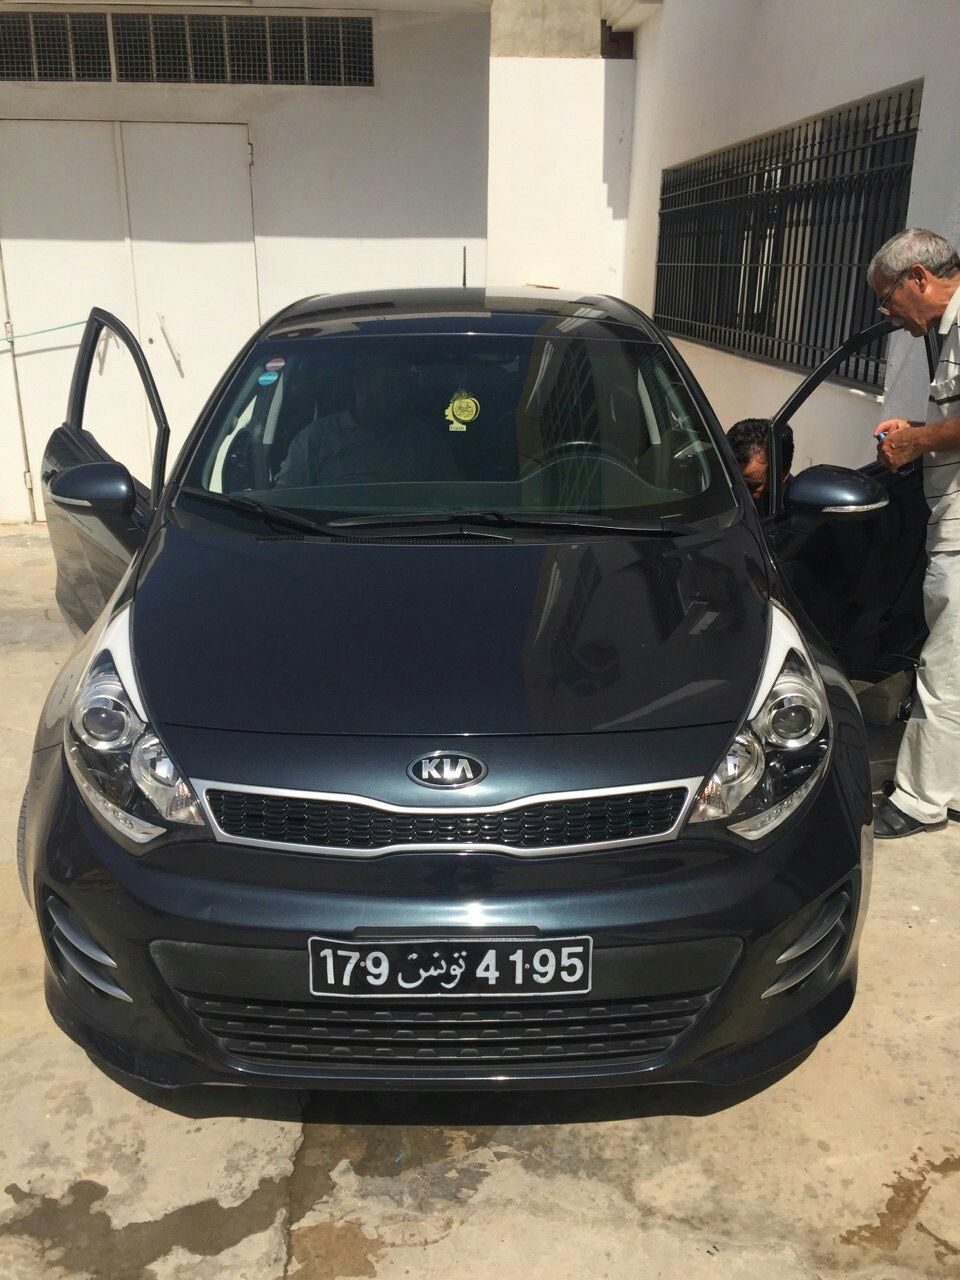LP: (303, 929, 597, 1007)
